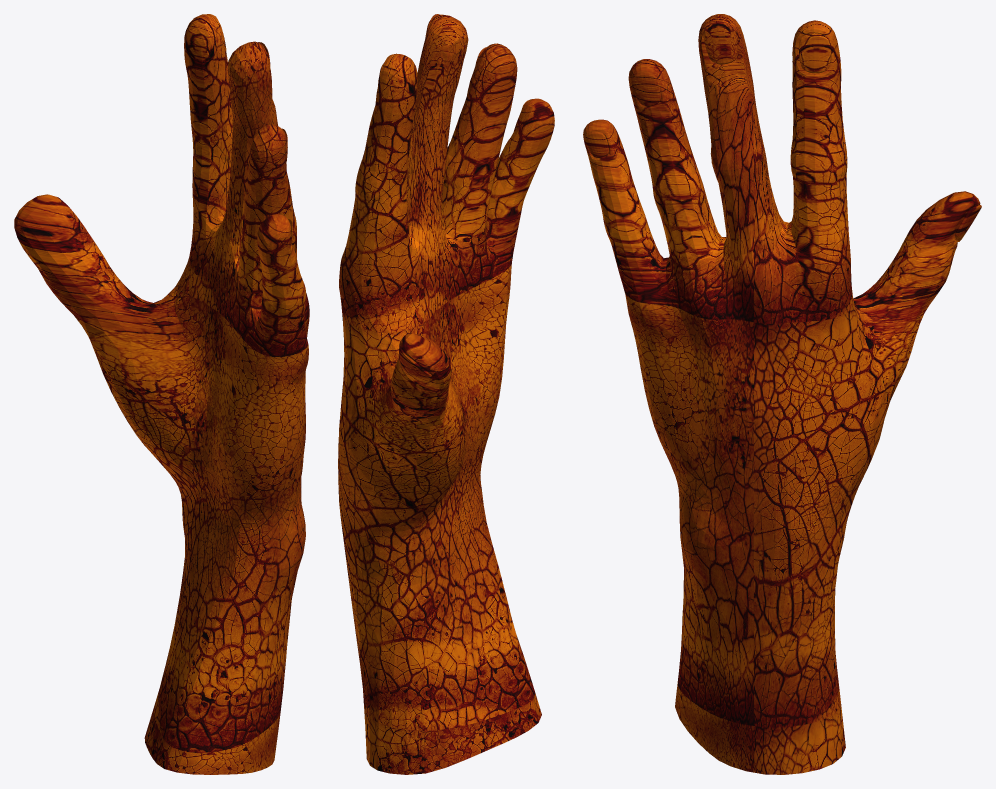
File: hand_02.obj
The picture shows the model from 3 angles, left to right: view 1: azimuth 30°, elevation 25°; view 2: azimuth 150°, elevation 25°; view 3: azimuth 270°, elevation 25°; orthographic projection. The views are drawn at different scales.
Parts seen in each view (by area): view 1: hand_02.obj; view 2: hand_02.obj; view 3: hand_02.obj.
Boxes of the visible parts, left/top/right/bottom form: hand_02.obj: left=14, top=14, right=309, bottom=774; hand_02.obj: left=338, top=14, right=554, bottom=774; hand_02.obj: left=583, top=14, right=981, bottom=774.
Size of the model in its own units: 96.52 by 360 by 176.
